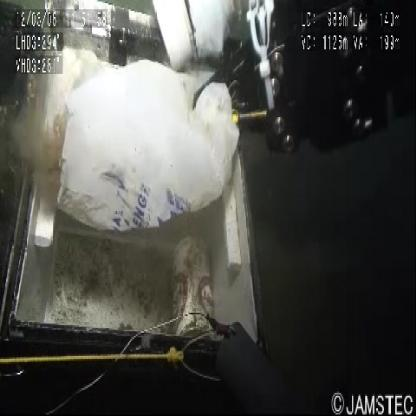Rov: (38, 1, 416, 165), (3, 1, 31, 110)
Rác: (47, 63, 243, 237)
